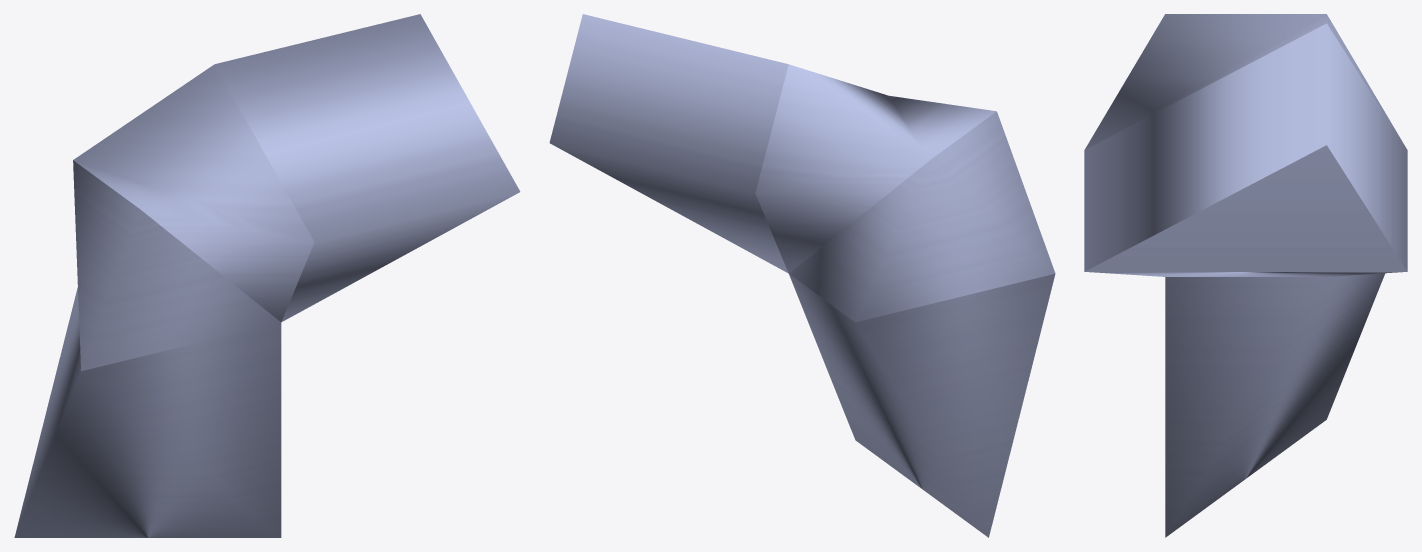
File: cc0-pipe-bend-lod1.glb
3 views of the same model, side by side, from view 1: azimuth 30°, elevation 25°; view 2: azimuth 150°, elevation 25°; view 3: azimuth 270°, elevation 25° (orthographic). The views are drawn at different scales.
Parts seen in each view (by area): view 1: part_0; view 2: part_0; view 3: part_0.
Boxes of the visible parts, x1,y1,x2,y2 form: part_0: (14,14,520,537); part_0: (549,14,1055,537); part_0: (1084,14,1407,537).
Bounding box in the file's own units: 0.5 × 0.5 × 0.2845.
Materials: 1 (1 with a texture image).
